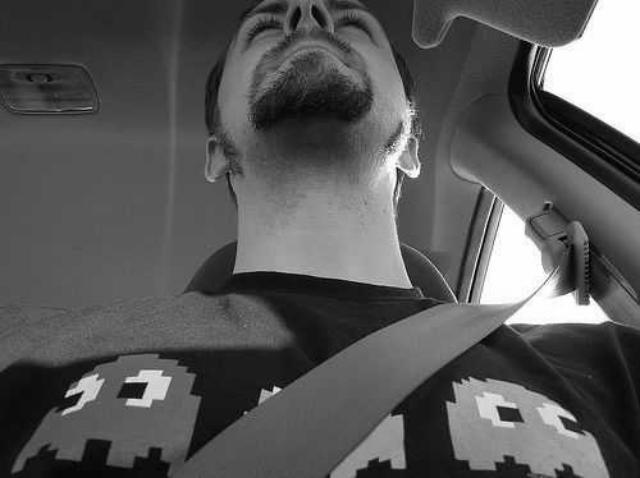Seatbelt: (163, 208, 594, 478)
